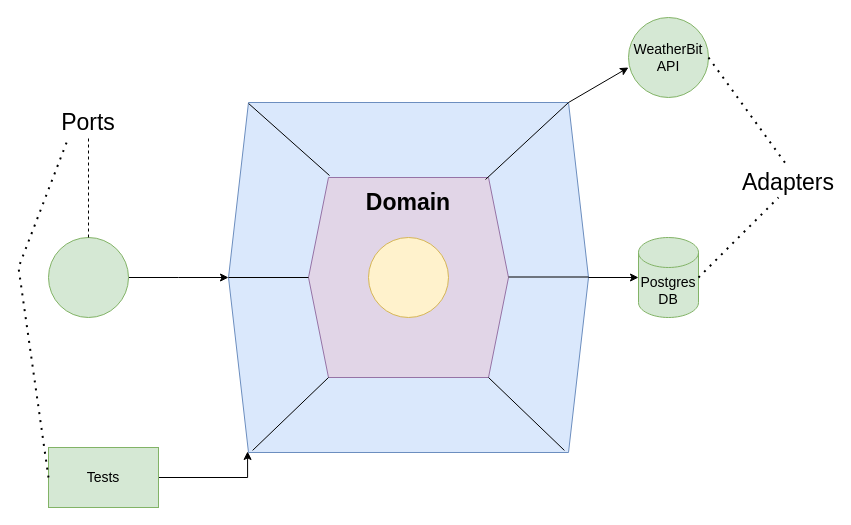
Some shapes in this 851 by 525 pixel diagram are drawn without their labels. The shapes that lost their labels are listed below. From the top down, each one's centre as x and y in pixels, then its label:
(x=88, y=277): API Endpoints
(x=408, y=277): Entities
